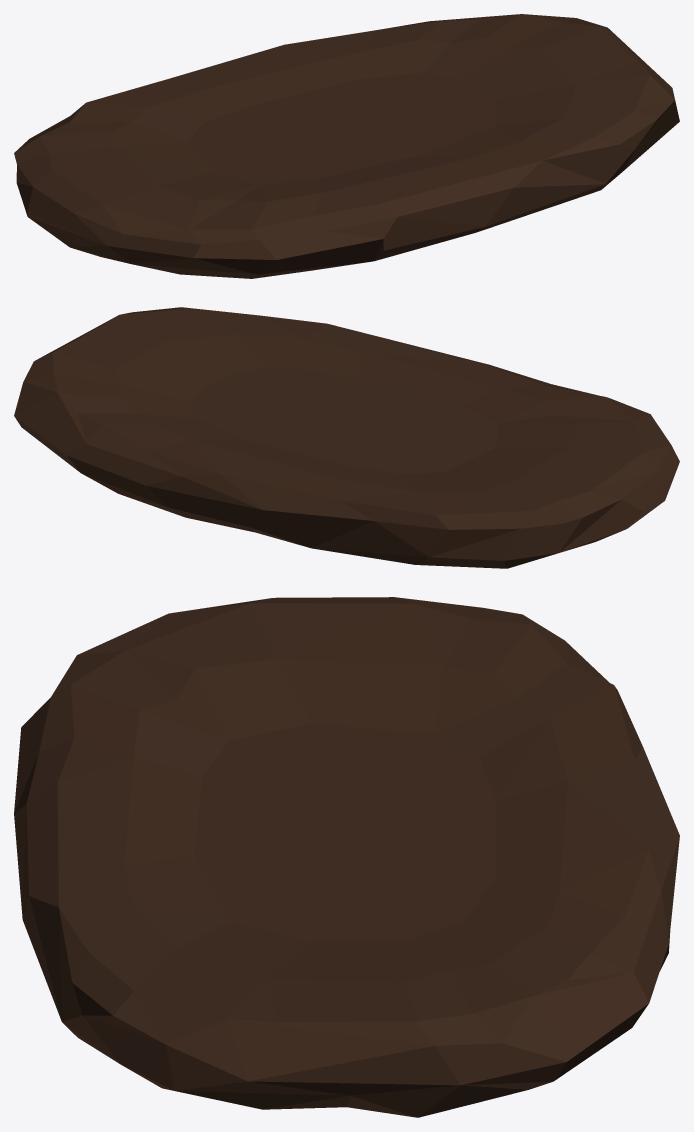
Rendered from stek3.fbx.
The picture shows the model from 3 angles, top to bottom: view 1: azimuth 30°, elevation 25°; view 2: azimuth 150°, elevation 25°; view 3: azimuth 270°, elevation 25°; orthographic projection. The views are drawn at different scales.
Visible parts, largest first — view 1: stek 3; view 2: stek 3; view 3: stek 3.
Boxes of the visible parts, x1,y1,x2,y2 form: stek 3: [14, 14, 679, 278]; stek 3: [14, 307, 679, 568]; stek 3: [14, 597, 679, 1117].
Bounding box in the file's own units: 696 × 84.4 × 412.
